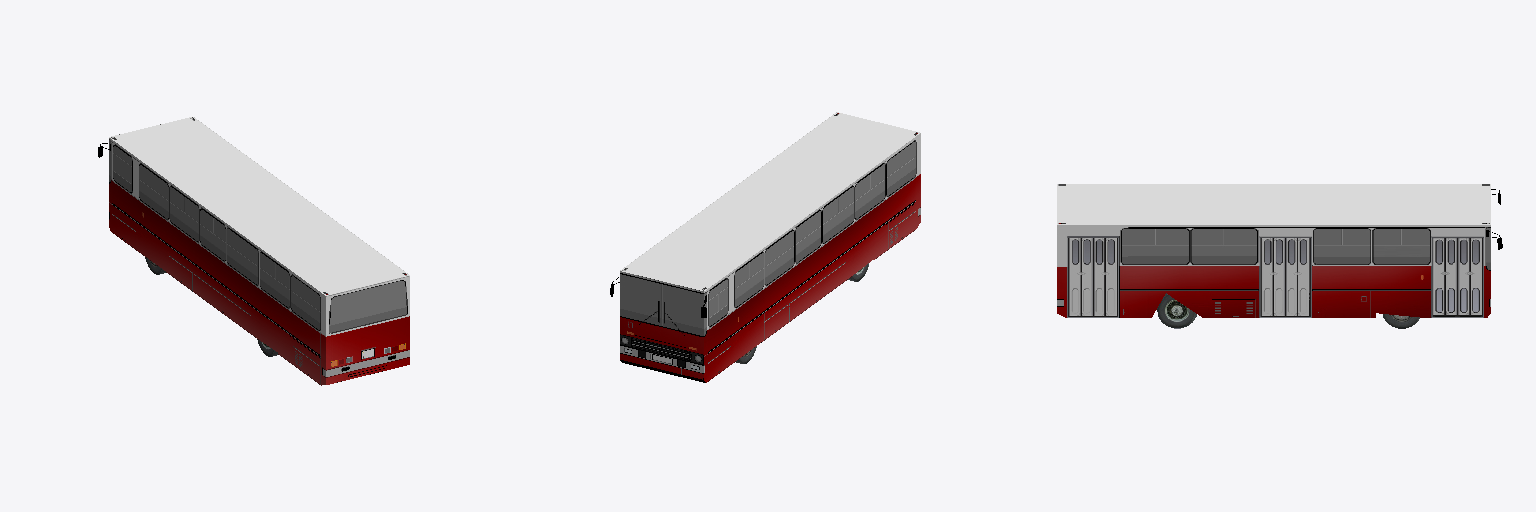
The picture shows the model from 3 angles: view 1: azimuth 30°, elevation 25°; view 2: azimuth 150°, elevation 25°; view 3: azimuth 270°, elevation 25°; orthographic projection.
Parts seen in each view (by area): view 1: Box018; view 2: Box018; view 3: Box018, Cylinder005.
Part boxes in pixels (left/top/right/bottom): Box018: left=109, top=117, right=409, bottom=385; Box018: left=620, top=112, right=920, bottom=382; Box018: left=1057, top=184, right=1490, bottom=317; Cylinder005: left=1157, top=293, right=1196, bottom=328.
Size of the model in its own units: 3.22 by 3.3 by 12.88.
Materials: 2 (2 with a texture image).